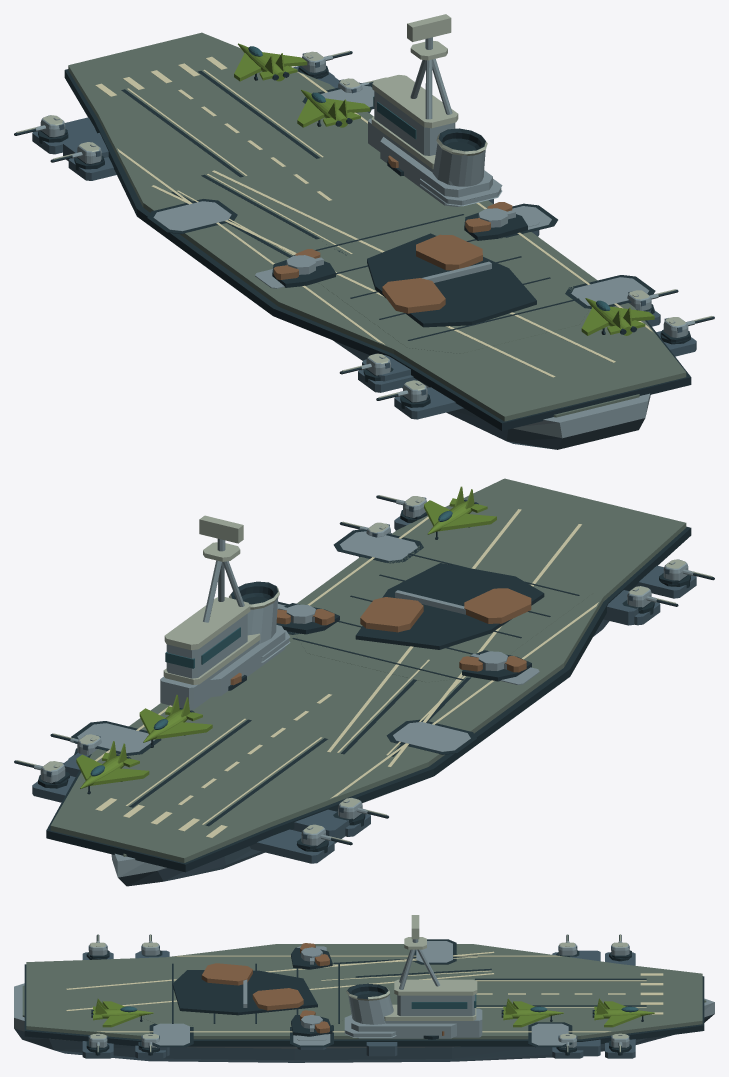
The model's file is historic-forrestal.glb.
The picture shows the model from 3 angles, top to bottom: view 1: azimuth 30°, elevation 25°; view 2: azimuth 150°, elevation 25°; view 3: azimuth 270°, elevation 25°; orthographic projection. The views are drawn at different scales.
Visible parts, largest first — view 1: historic-forrestal-historic-forrestal-geometry, historic-forrestal-part_flight-deck.018-geometry, historic-forrestal-ruin_flight-deck.017-geometry, historic-forrestal-part_bridge.058-geometry, historic-forrestal-historic_funnel_0.059-geometry, historic-forrestal-aircraft_lift_3-geometry, historic-forrestal-aircraft_lift_2.013-geometry, historic-forrestal-parked_aircraft_0.018-geometry, historic-forrestal-parked_aircraft_1.018-geometry, historic-forrestal-parked_aircraft_2.018-geometry, historic-forrestal-ruin_aa-starboard.057-geometry, historic-forrestal-ruin_aa-port.059-geometry (+9 smaller); view 2: historic-forrestal-historic-forrestal-geometry, historic-forrestal-part_flight-deck.018-geometry, historic-forrestal-ruin_flight-deck.017-geometry, historic-forrestal-part_bridge.058-geometry, historic-forrestal-historic_funnel_0.059-geometry, historic-forrestal-aircraft_lift_3-geometry, historic-forrestal-aircraft_lift_2.013-geometry, historic-forrestal-parked_aircraft_1.018-geometry, historic-forrestal-parked_aircraft_0.018-geometry, historic-forrestal-parked_aircraft_2.018-geometry, historic-forrestal-aircraft_lift_0.018-geometry, historic-forrestal-ruin_aa-port.059-geometry (+8 smaller); view 3: historic-forrestal-historic-forrestal-geometry, historic-forrestal-part_flight-deck.018-geometry, historic-forrestal-ruin_flight-deck.017-geometry, historic-forrestal-part_bridge.058-geometry, historic-forrestal-historic_funnel_0.059-geometry, historic-forrestal-aircraft_lift_0.018-geometry, historic-forrestal-parked_aircraft_0.018-geometry, historic-forrestal-parked_aircraft_2.018-geometry, historic-forrestal-aircraft_lift_2.013-geometry, historic-forrestal-parked_aircraft_1.018-geometry, historic-forrestal-aircraft_lift_3-geometry, historic-forrestal-ruin_aa-starboard.057-geometry (+12 smaller).
Part boxes in pixels (x1,y1,x2,y2): historic-forrestal-historic-forrestal-geometry: (32, 32, 696, 449); historic-forrestal-part_flight-deck.018-geometry: (292, 212, 589, 353); historic-forrestal-ruin_flight-deck.017-geometry: (367, 233, 536, 327); historic-forrestal-part_bridge.058-geometry: (368, 14, 483, 185); historic-forrestal-historic_funnel_0.059-geometry: (380, 128, 502, 206); historic-forrestal-aircraft_lift_3-geometry: (147, 199, 237, 233); historic-forrestal-aircraft_lift_2.013-geometry: (565, 275, 655, 308); historic-forrestal-parked_aircraft_0.018-geometry: (581, 298, 654, 335); historic-forrestal-parked_aircraft_1.018-geometry: (297, 89, 370, 127); historic-forrestal-parked_aircraft_2.018-geometry: (234, 43, 307, 81); historic-forrestal-ruin_aa-starboard.057-geometry: (464, 202, 527, 240); historic-forrestal-ruin_aa-port.059-geometry: (272, 249, 335, 287); historic-forrestal-historic-forrestal-geometry: (32, 478, 696, 886); historic-forrestal-part_flight-deck.018-geometry: (292, 541, 593, 682); historic-forrestal-ruin_flight-deck.017-geometry: (355, 563, 544, 649); historic-forrestal-part_bridge.058-geometry: (160, 515, 276, 709); historic-forrestal-historic_funnel_0.059-geometry: (210, 581, 290, 697); historic-forrestal-aircraft_lift_3-geometry: (386, 719, 476, 754); historic-forrestal-aircraft_lift_2.013-geometry: (333, 529, 423, 563); historic-forrestal-parked_aircraft_1.018-geometry: (139, 694, 212, 747); historic-forrestal-parked_aircraft_0.018-geometry: (424, 486, 496, 539); historic-forrestal-parked_aircraft_2.018-geometry: (76, 741, 149, 794); historic-forrestal-aircraft_lift_0.018-geometry: (71, 721, 161, 755); historic-forrestal-ruin_aa-port.059-geometry: (459, 650, 531, 681); historic-forrestal-historic-forrestal-geometry: (14, 944, 714, 1062); historic-forrestal-part_flight-deck.018-geometry: (135, 961, 355, 1026); historic-forrestal-ruin_flight-deck.017-geometry: (172, 963, 317, 1015); historic-forrestal-part_bridge.058-geometry: (359, 915, 482, 1037); historic-forrestal-historic_funnel_0.059-geometry: (344, 983, 456, 1038); historic-forrestal-aircraft_lift_0.018-geometry: (528, 1022, 572, 1047); historic-forrestal-parked_aircraft_0.018-geometry: (91, 998, 153, 1027); historic-forrestal-parked_aircraft_2.018-geometry: (592, 998, 654, 1027); historic-forrestal-aircraft_lift_2.013-geometry: (149, 1023, 193, 1047); historic-forrestal-parked_aircraft_1.018-geometry: (501, 998, 563, 1027); historic-forrestal-aircraft_lift_3-geometry: (413, 939, 456, 964); historic-forrestal-ruin_aa-starboard.057-geometry: (291, 1010, 332, 1036).
Bounding box in the file's own units: 2.36 × 1.47 × 5.89.
